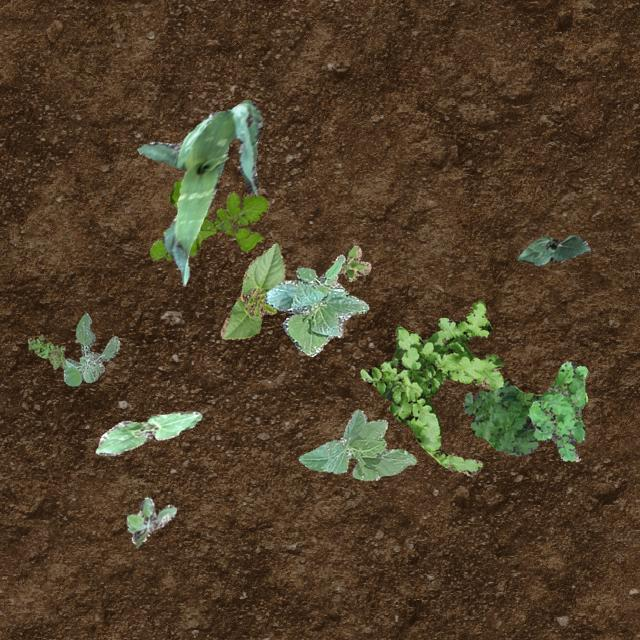crop: (136, 99, 262, 284), (264, 254, 368, 356), (298, 408, 414, 479), (220, 242, 284, 338), (94, 410, 200, 454), (516, 234, 590, 264)
weed: (360, 300, 502, 476), (148, 178, 268, 260), (526, 360, 586, 460), (462, 380, 542, 454), (63, 312, 119, 384), (126, 496, 176, 546), (26, 334, 66, 368), (338, 244, 370, 280)
